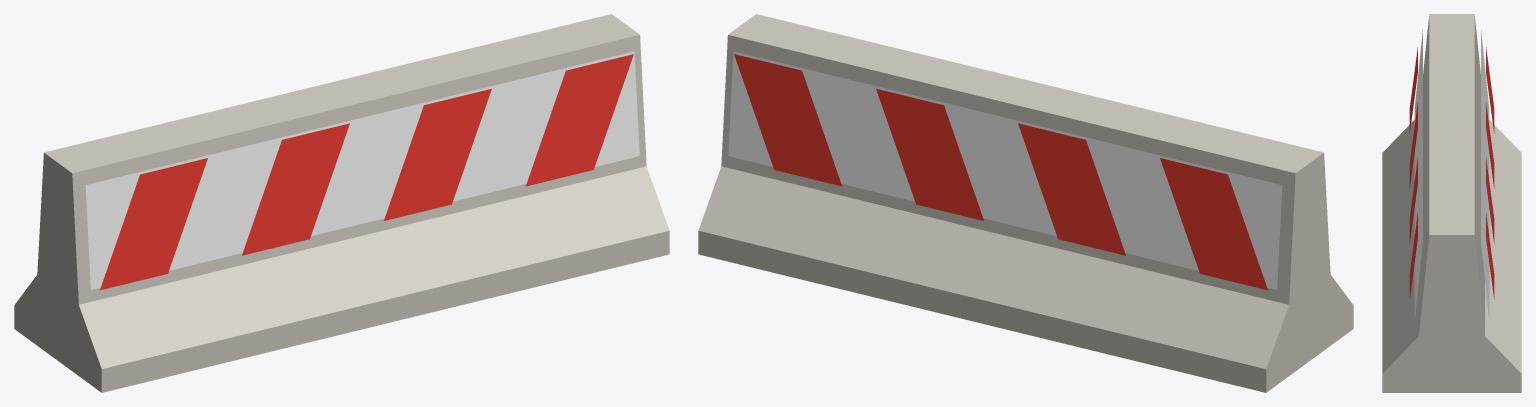
Rendered from barrier.glb.
The picture shows the model from 3 angles, left to right: view 1: azimuth 30°, elevation 25°; view 2: azimuth 150°, elevation 25°; view 3: azimuth 270°, elevation 25°; orthographic projection. The views are drawn at different scales.
Visible parts, largest first — view 1: barrier; view 2: barrier; view 3: barrier.
Boxes of the visible parts, x1,y1,x2,y2 form: barrier: (14,14,669,392); barrier: (698,14,1353,392); barrier: (1382,14,1521,392).
Size of the model in its own units: 0.3 by 0.1 by 0.08.
